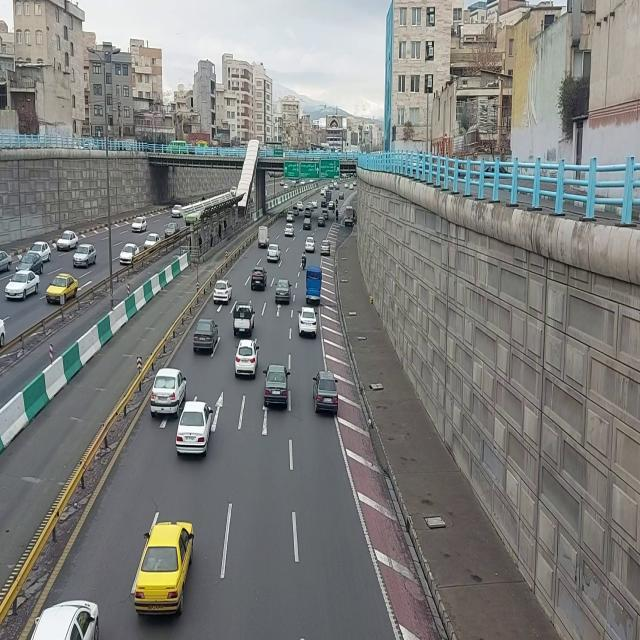Car: (132, 520, 195, 620), (28, 594, 108, 640), (176, 400, 214, 459), (150, 367, 187, 417), (312, 369, 338, 416), (264, 364, 291, 409), (45, 272, 79, 306), (5, 270, 41, 302), (235, 338, 261, 379), (193, 320, 220, 354), (297, 305, 319, 339), (16, 252, 45, 274), (73, 243, 97, 269), (213, 278, 233, 306), (119, 244, 141, 267), (56, 229, 78, 252), (275, 278, 293, 306), (251, 266, 268, 292), (144, 232, 162, 251), (38, 240, 52, 262), (0, 249, 12, 274), (267, 243, 281, 263), (165, 222, 181, 238), (131, 216, 147, 232), (305, 236, 317, 254), (320, 240, 331, 256), (171, 205, 183, 219), (303, 217, 313, 232), (284, 223, 294, 237), (287, 210, 296, 223), (317, 213, 325, 227), (292, 205, 300, 216), (304, 206, 312, 216), (297, 201, 305, 211), (321, 209, 329, 219), (321, 199, 328, 209), (312, 198, 318, 208), (339, 191, 345, 200), (321, 188, 326, 196)
Motorcycle: (302, 251, 307, 272), (335, 209, 339, 223), (335, 197, 339, 207), (332, 202, 335, 214)
Pickup: (233, 300, 256, 338), (305, 266, 323, 307), (258, 224, 270, 250), (325, 190, 331, 204)
